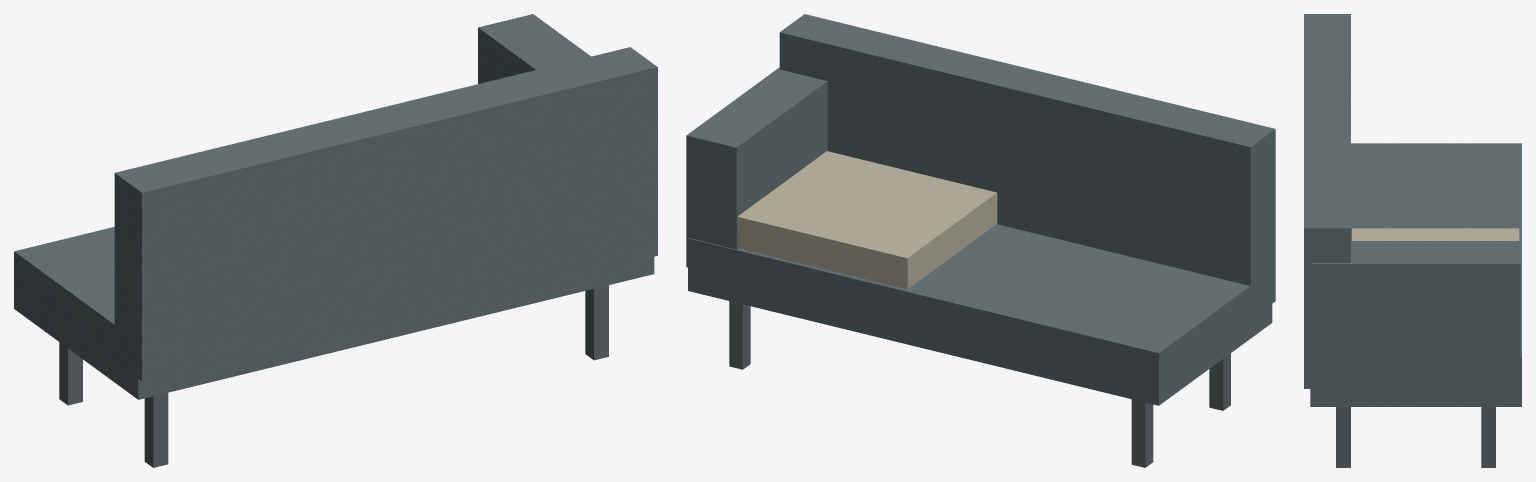
3 renders of one model, left to right at view 1: azimuth 30°, elevation 25°; view 2: azimuth 150°, elevation 25°; view 3: azimuth 270°, elevation 25°, orthographic. The views are drawn at different scales.
Visible parts, largest first — view 1: backrest, seat_base, armrest, leg_-0.88_0.29500000000000004, leg_0.88_0.29500000000000004, leg_-0.88_-0.29500000000000004; view 2: backrest, seat_base, seat_cushion, armrest, leg_-0.88_-0.29500000000000004, leg_0.88_-0.29500000000000004, leg_-0.88_0.29500000000000004; view 3: armrest, seat_base, backrest, seat_cushion, leg_0.88_-0.29500000000000004, leg_0.88_0.29500000000000004.
Part boxes in pixels (bbox=[...]): backrest: bbox=[114, 47, 657, 381]; seat_base: bbox=[14, 227, 654, 399]; armrest: bbox=[478, 14, 590, 83]; leg_-0.88_0.29500000000000004: bbox=[144, 393, 168, 467]; leg_0.88_0.29500000000000004: bbox=[585, 285, 608, 360]; leg_-0.88_-0.29500000000000004: bbox=[59, 342, 82, 405]; backrest: bbox=[779, 14, 1275, 309]; seat_base: bbox=[688, 224, 1272, 405]; seat_cushion: bbox=[737, 151, 997, 289]; armrest: bbox=[686, 67, 827, 267]; leg_-0.88_-0.29500000000000004: bbox=[1131, 399, 1153, 467]; leg_0.88_-0.29500000000000004: bbox=[729, 301, 750, 369]; leg_-0.88_0.29500000000000004: bbox=[1209, 353, 1230, 410]; armrest: bbox=[1311, 241, 1520, 386]; seat_base: bbox=[1310, 143, 1521, 406]; backrest: bbox=[1304, 14, 1350, 388]; seat_cushion: bbox=[1352, 228, 1519, 240]; leg_0.88_-0.29500000000000004: bbox=[1481, 407, 1495, 467]; leg_0.88_0.29500000000000004: bbox=[1336, 407, 1350, 467].
Bounding box in the file's own units: 2.07 × 1.13 × 0.885.
Materials: 3 (3 with a texture image).
